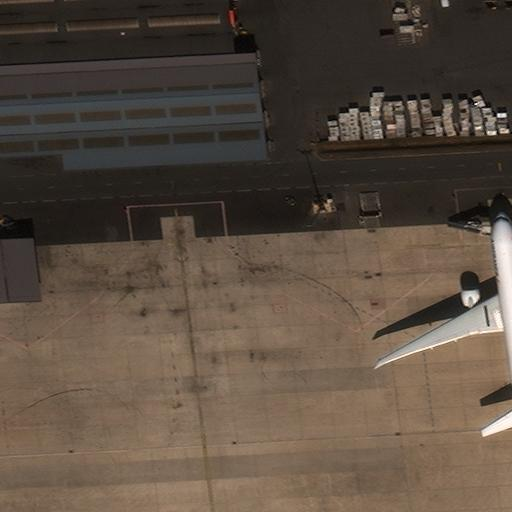Large Civil Transport: (376, 212, 511, 420)
